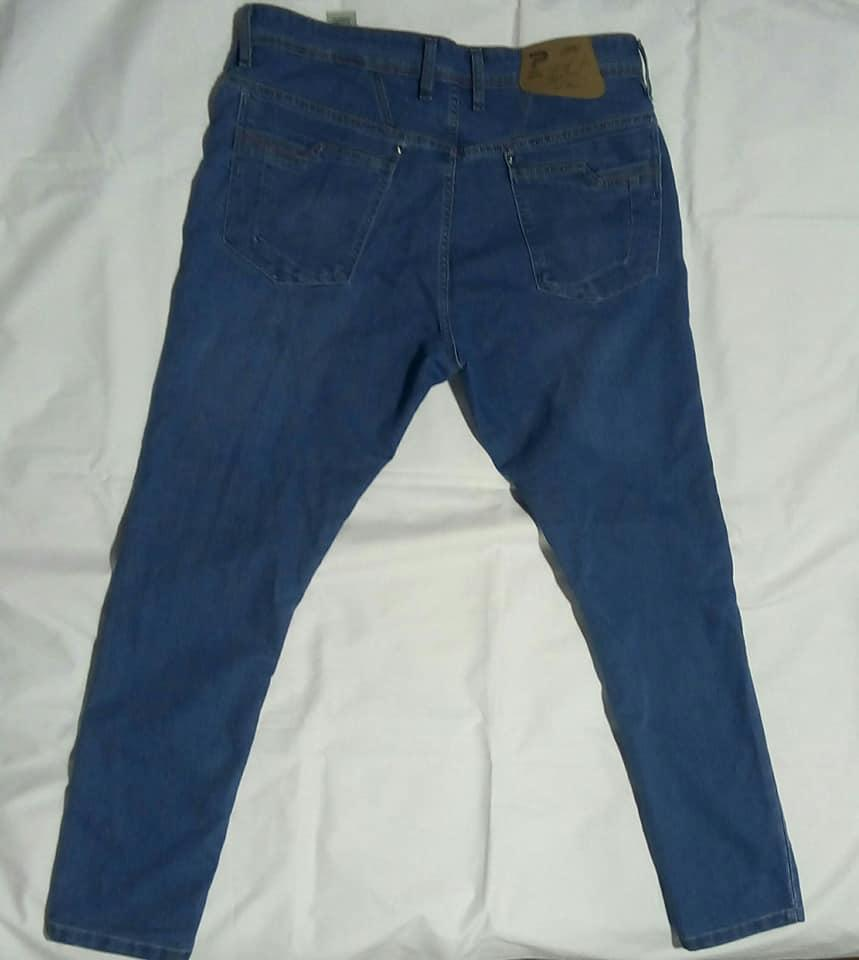Jeans: (34, 0, 814, 960)
